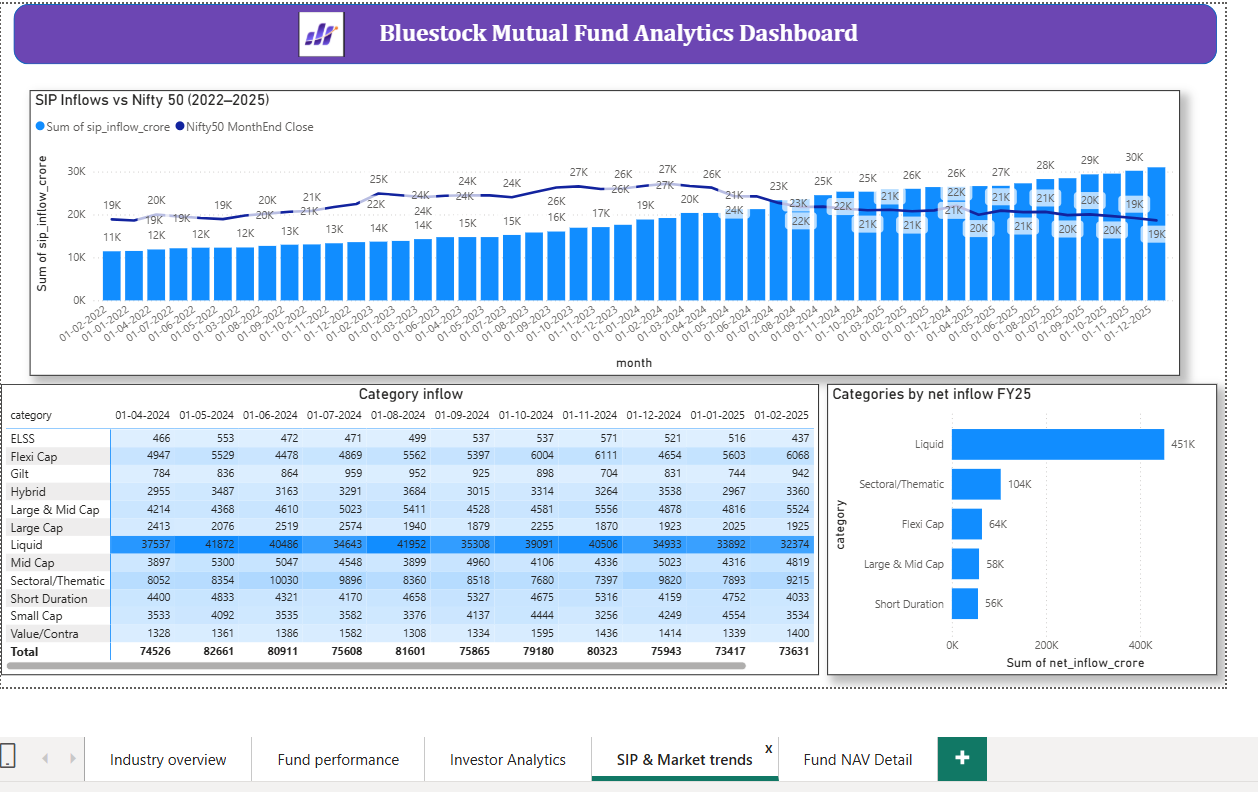

What the dashboard file says about the page in this screenshot:
{"tool":"powerbi","page":{"name":"SIP & Market trends","canvas":[1380,770],"ordinal":3},"visuals":[{"type":"lineClusteredColumnComboChart","title":"SIP Inflows vs Nifty 50 (2022–2025)","fields":{"Y":["Sum(monthly_sip_inflows_clean.sip_inflow_crore)"],"Y2":["10_benchmark_indices.Nifty50 MonthEnd Close"],"Category":["monthly_sip_inflows_clean.month"]},"box":[32.7,96.8,1296,321.7],"z":0},{"type":"pivotTable","title":"Category inflow","fields":{"Rows":["05_category_inflows.category"],"Values":["Sum(05_category_inflows.net_inflow_crore)"],"Columns":["05_category_inflows.month"]},"box":[0,427.6,922,328.2],"z":1},{"type":"clusteredBarChart","title":"Categories by net inflow FY25","fields":{"Category":["05_category_inflows.category"],"Y":["Sum(05_category_inflows.net_inflow_crore)"]},"box":[931.1,427.6,439.4,328.2],"z":2},{"type":"shape","box":[14.4,0,1356.1,68],"z":3},{"type":"textbox","box":[421.1,11.8,575.4,45.8],"z":4},{"type":"image","box":[329.6,3.9,62.8,60.2],"z":5}]}

Visuals, with their boxes on the page's 1380x770 design canvas (x1, y1, x2, y2). These are canvas units, not pixel positions in the 1258x792 screenshot, which may show the page scaled, cropped or inside an application window:
"SIP Inflows vs Nifty 50 (2022–2025)" lineClusteredColumnComboChart: (x1=33, y1=97, x2=1329, y2=418)
"Category inflow" pivotTable: (x1=0, y1=428, x2=922, y2=756)
"Categories by net inflow FY25" clusteredBarChart: (x1=931, y1=428, x2=1370, y2=756)
shape: (x1=14, y1=0, x2=1370, y2=68)
textbox: (x1=421, y1=12, x2=996, y2=58)
image: (x1=330, y1=4, x2=392, y2=64)
